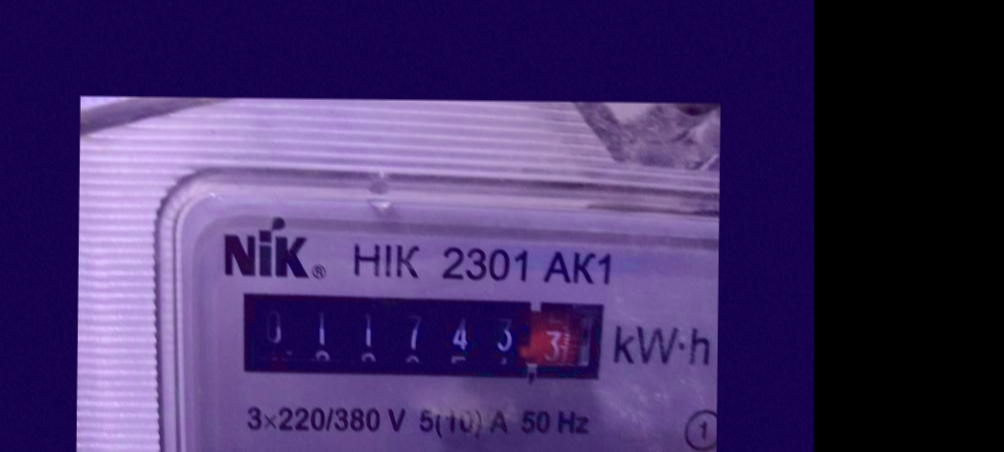0: (262, 306, 284, 345), (312, 306, 330, 347)
1: (359, 307, 375, 348)
3: (494, 312, 514, 355), (542, 325, 562, 363)
4: (449, 311, 469, 351)
7: (402, 308, 425, 352)
screen: (222, 279, 612, 390)
